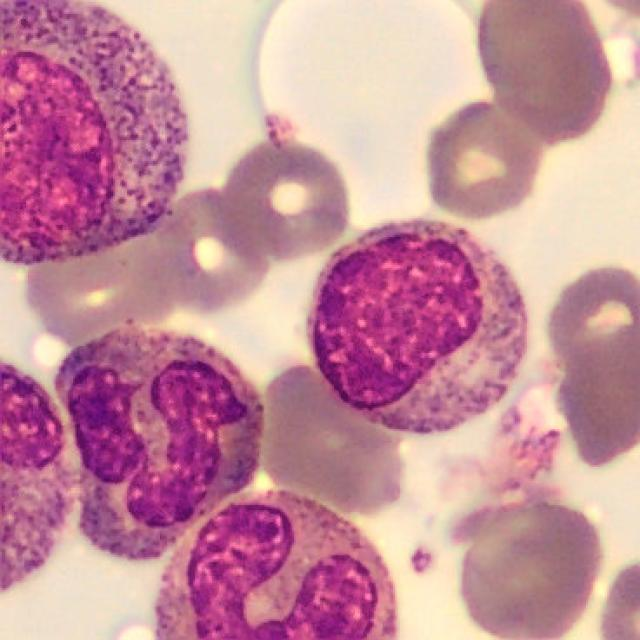Mielocito: (308, 220, 527, 432)
Neutrofilo segmentado: (54, 330, 264, 562)
